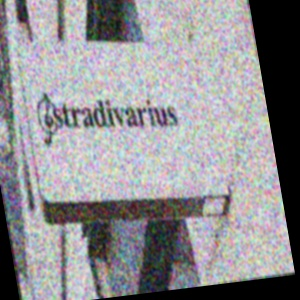stradivarius: (140, 12, 204, 120)
